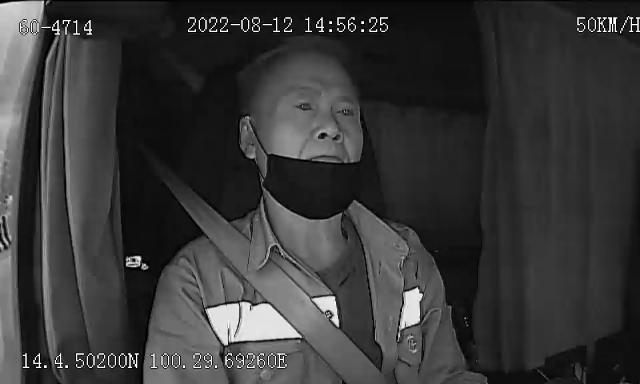SafeDriving: (328, 97, 362, 124), (288, 92, 320, 119)
Seatbelt: (157, 172, 390, 384)
